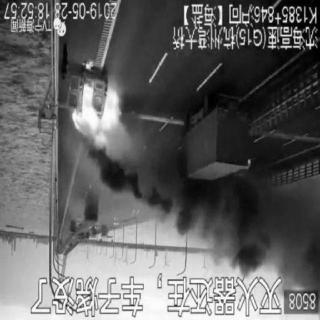Fire: (72, 78, 122, 154)
Smoke: (253, 189, 314, 292), (139, 142, 182, 222), (97, 158, 131, 200)
other: (185, 106, 251, 182)
